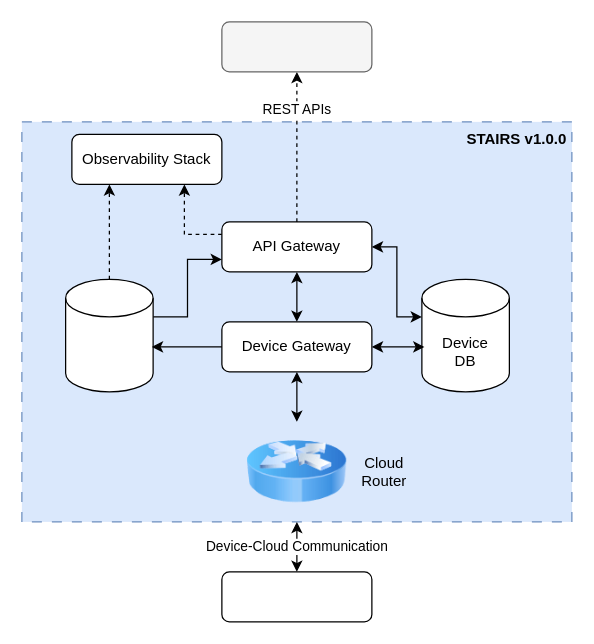
Image size: 594x644. Some labels were removed from this diagram. The shapes that lost their labels are listed below. From the top down, each one's centre as x and y in pixels, then its label:
At point (296, 46): "Custom Frontend / 3rd party app".
At point (108, 335): "Telemetry DB".
At point (296, 596): "Device".
